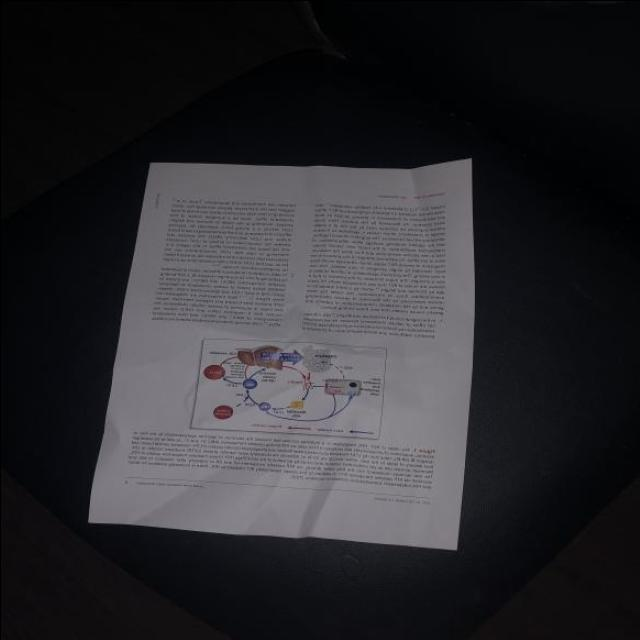kertas: (87, 134, 487, 550)
